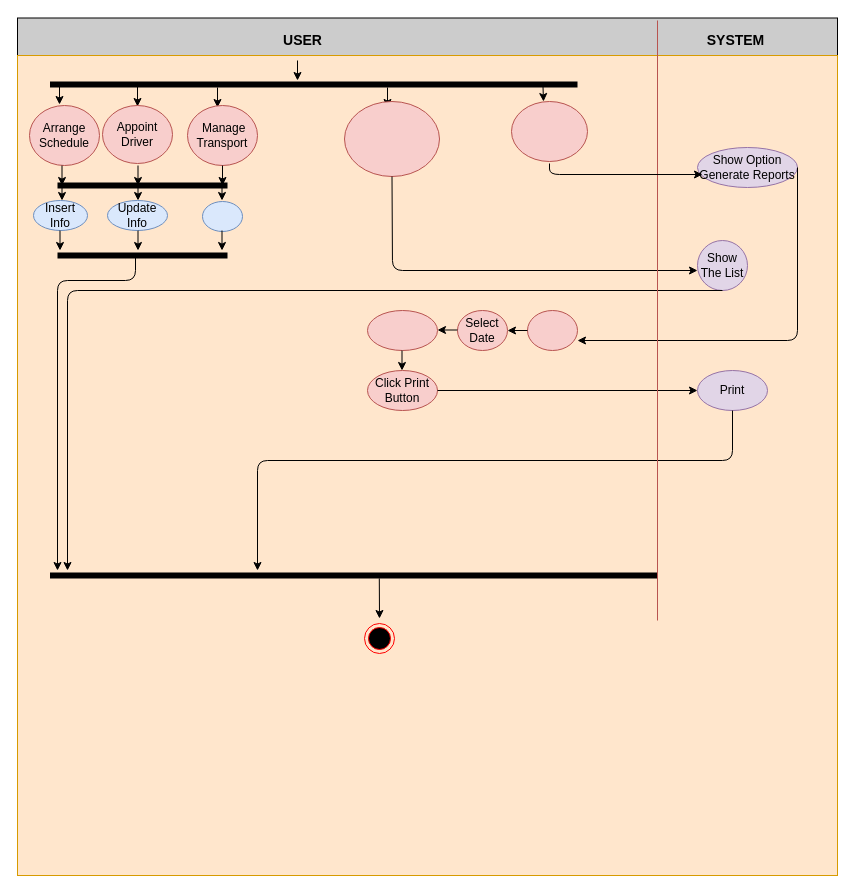
The diagram is 855 pixels wide and 893 high, and some of its shapes have lost their labels. The shapes that lost their labels are listed below. From the top down, each one's centre as x and y in pixels, then its label:
At point (392, 138): "Request to See Office Employee List".
At point (549, 131): "Request to Generate Reports".
At point (222, 216): "Delete".
At point (402, 330): "Write Summary".
At point (552, 330): "Click on That".
